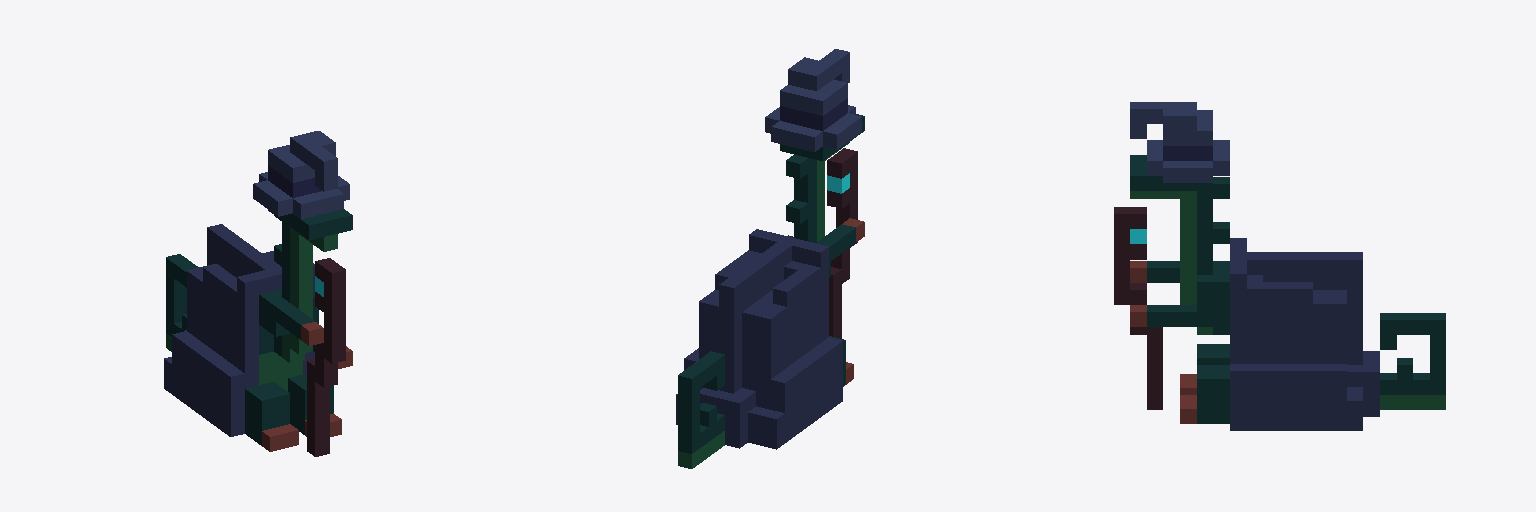
3 renders of one model, left to right at view 1: azimuth 30°, elevation 25°; view 2: azimuth 150°, elevation 25°; view 3: azimuth 270°, elevation 25°, orthographic.
Visible parts, largest first — view 1: object 1; view 2: object 1; view 3: object 1.
Part boxes in pixels (x1,y1,x2,y2): object 1: (164,131,352,456); object 1: (676,49,864,468); object 1: (1114,102,1445,430).
Size of the model in its own units: 0.7 by 2 by 2.
1 materials, 1 textured.